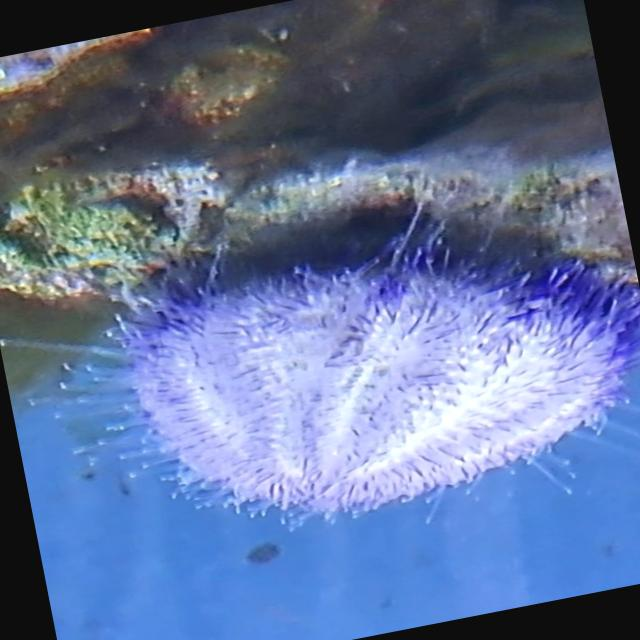Deniz Kestanesi: (52, 180, 640, 575)
